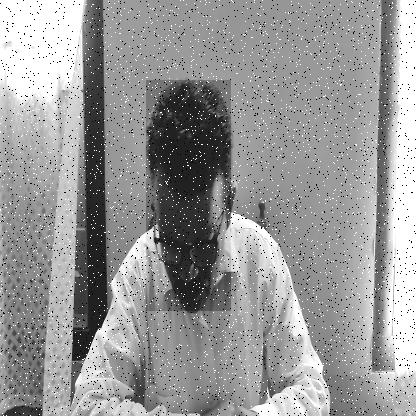Normal: (146, 80, 231, 311)
